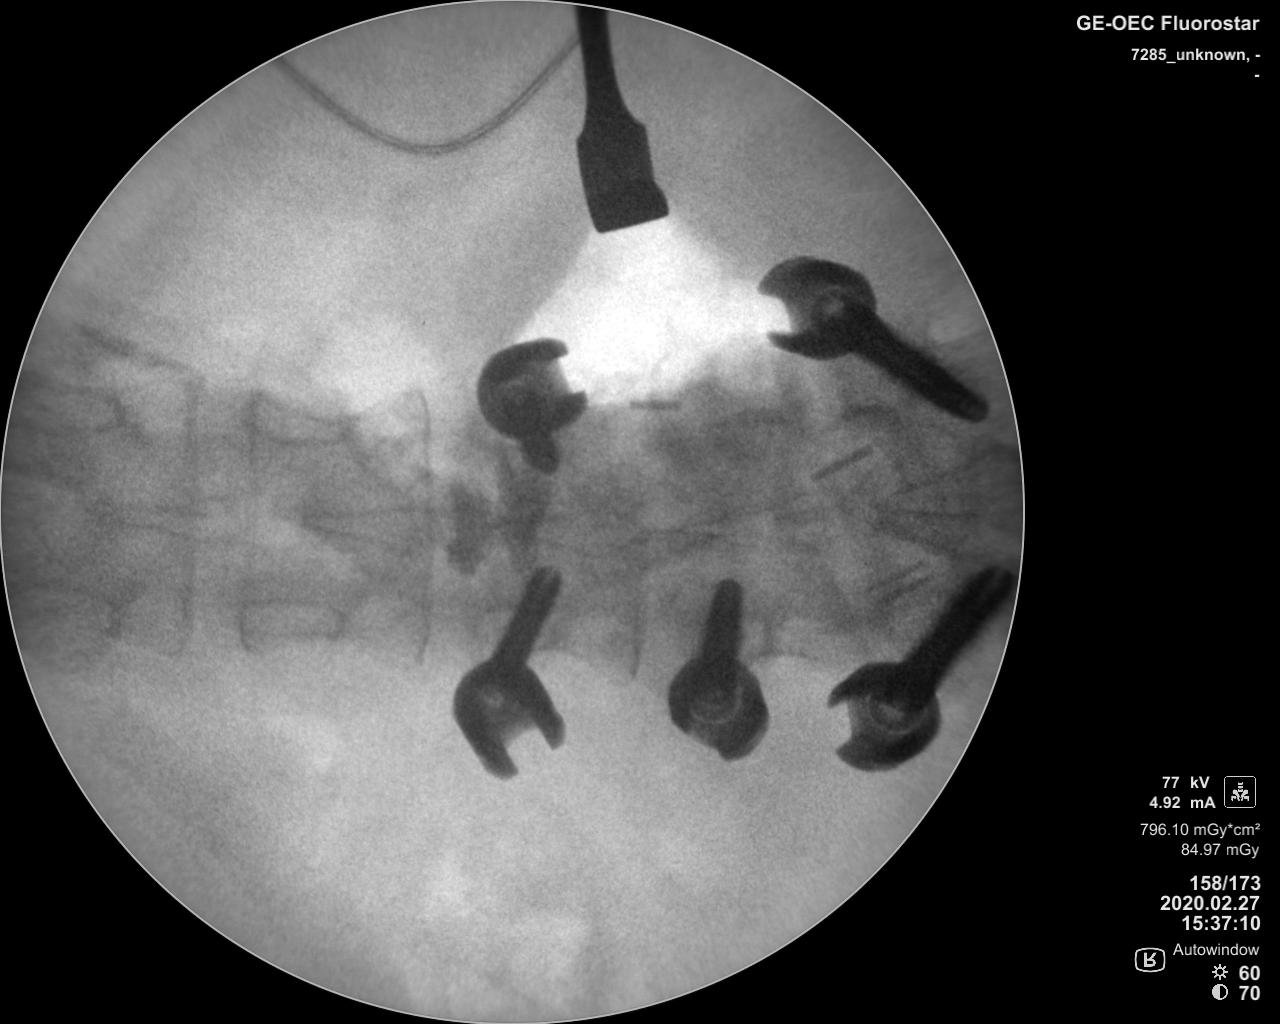eyes: (14, 584, 119, 665), (242, 398, 352, 449), (239, 596, 348, 646), (18, 388, 130, 436)
line: (620, 387, 654, 685), (176, 368, 203, 667), (413, 385, 438, 669), (236, 385, 259, 660)
nose: (290, 498, 441, 559), (489, 506, 642, 557), (108, 495, 245, 546)
